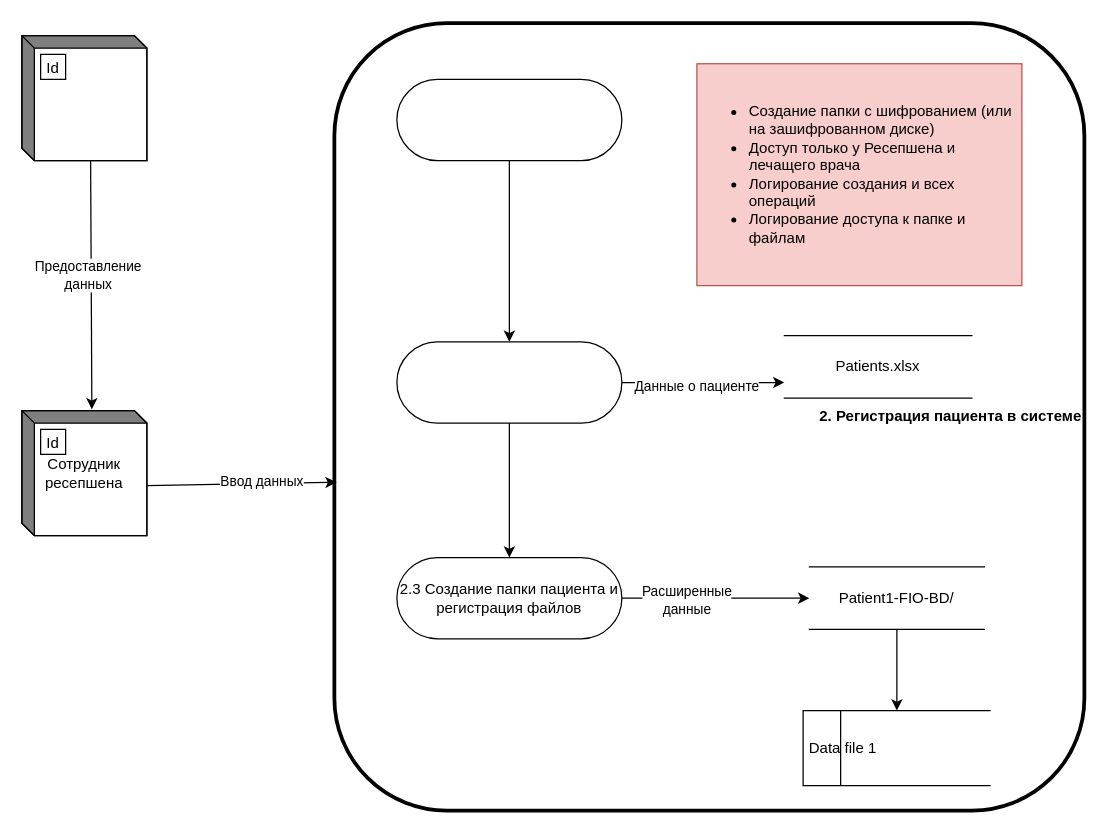
Image size: 1108x834. Some labels were removed from this diagram. The centre of each missing label's shape, as x and y in pixels:
2.1. Сбор данных: (x=509, y=119)
2.2. Создание карты пациента: (x=509, y=382)
Пациент: (x=84, y=97)
